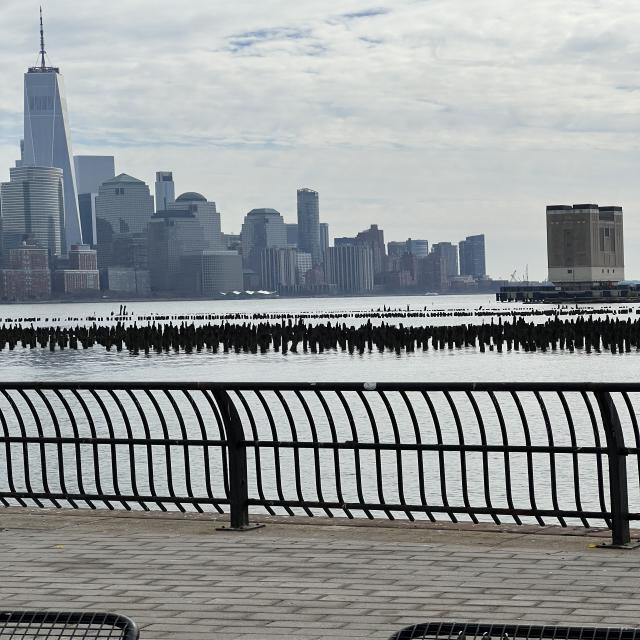WTC: (20, 9, 73, 172)
